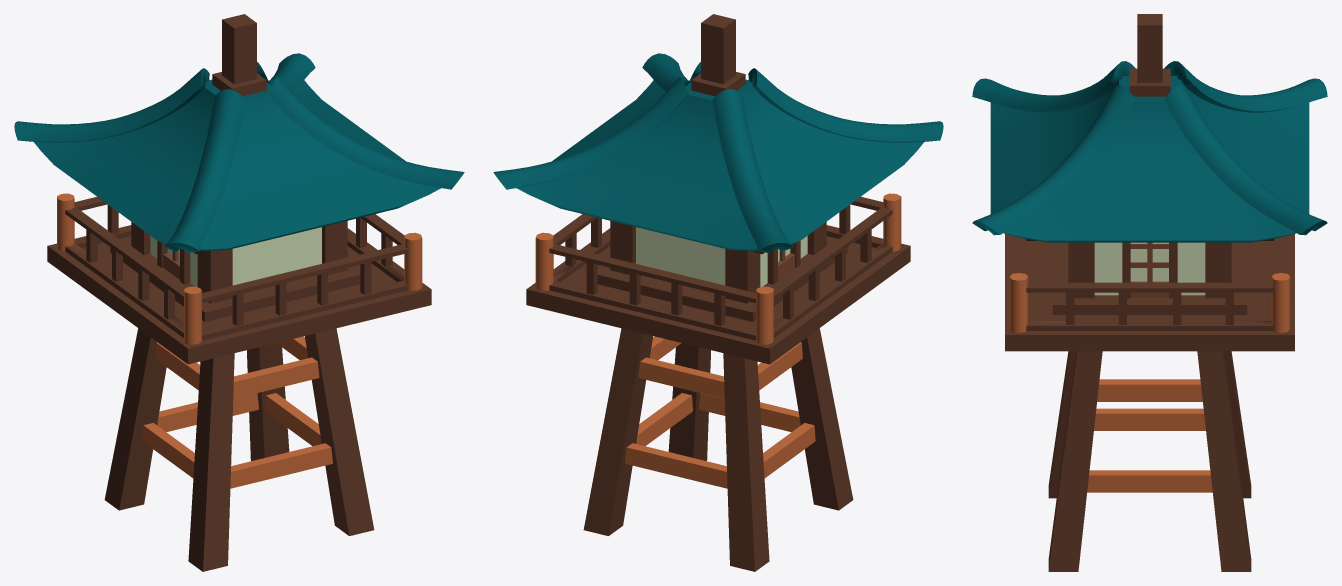
The model's file is tower_01.fbx.
3 views of the same model, side by side, from view 1: azimuth 30°, elevation 25°; view 2: azimuth 150°, elevation 25°; view 3: azimuth 270°, elevation 25° (orthographic). The views are drawn at different scales.
Parts seen in each view (by area): view 1: Japanese_Shrine_Cylinder.012; view 2: Japanese_Shrine_Cylinder.012; view 3: Japanese_Shrine_Cylinder.012.
Boxes of the visible parts, box(x1,y1,x2,y2) form: Japanese_Shrine_Cylinder.012: box(14, 14, 464, 571); Japanese_Shrine_Cylinder.012: box(493, 14, 943, 571); Japanese_Shrine_Cylinder.012: box(972, 14, 1327, 571).
Bounding box in the file's own units: 1179 × 1867 × 1180.
